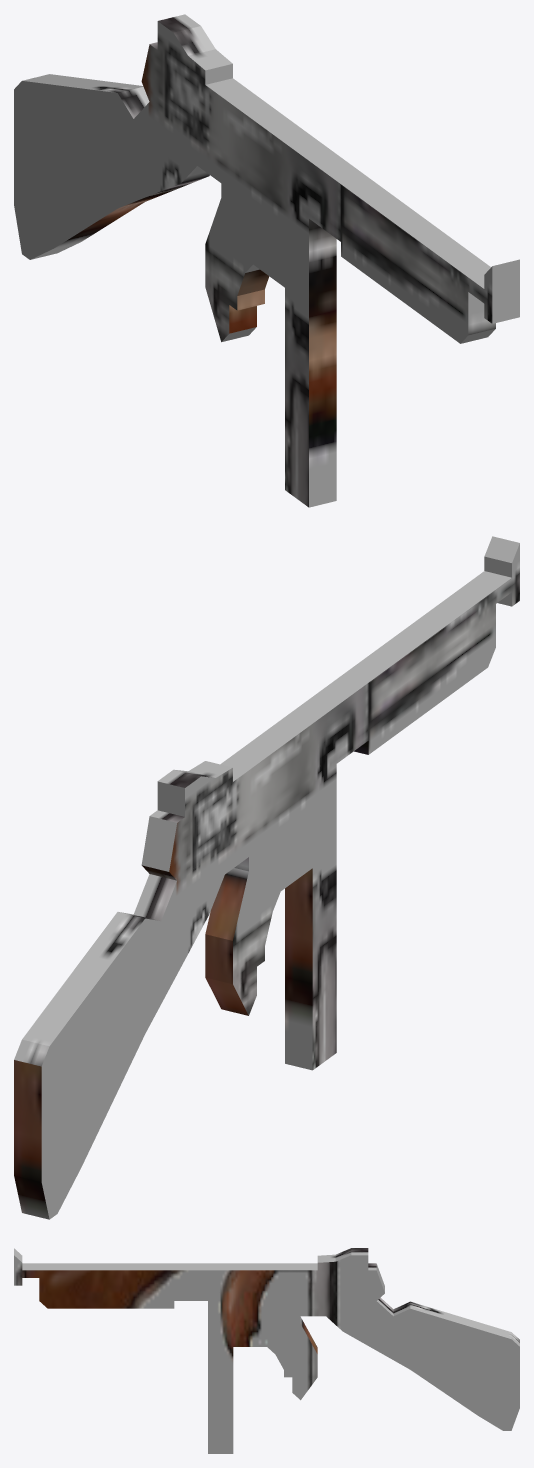
The picture shows the model from 3 angles, top to bottom: view 1: azimuth 30°, elevation 25°; view 2: azimuth 150°, elevation 25°; view 3: azimuth 270°, elevation 25°; orthographic projection. The views are drawn at different scales.
Parts seen in each view (by area): view 1: Regroup01; view 2: Regroup01; view 3: Regroup01.
Boxes of the visible parts, box(x1,y1,x2,y2) form: Regroup01: box(14, 14, 519, 507); Regroup01: box(14, 536, 519, 1219); Regroup01: box(14, 1248, 519, 1453).
Size of the model in its own units: 2 by 26 by 60.
